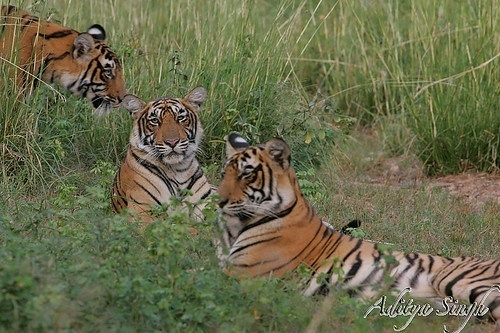tigre: (214, 132, 500, 324), (110, 85, 217, 234), (1, 1, 127, 107)
